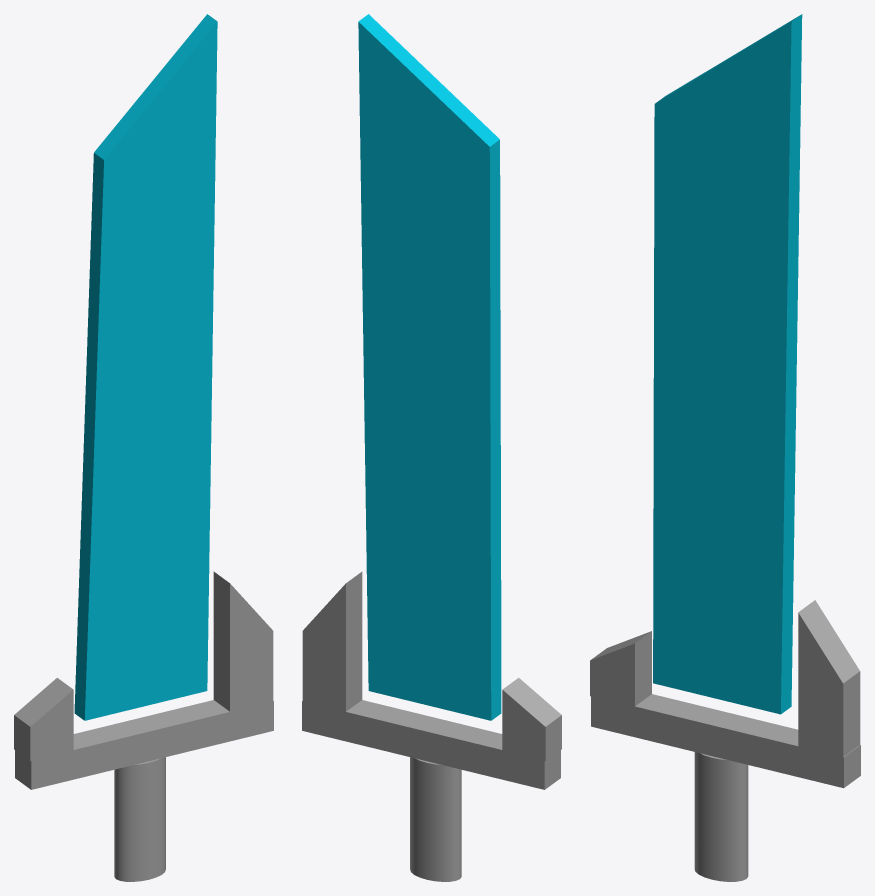
The model's file is SK_ProxySword_01.fbx.
The picture shows the model from 3 angles, left to right: view 1: azimuth 30°, elevation 25°; view 2: azimuth 150°, elevation 25°; view 3: azimuth 330°, elevation 25°; orthographic projection. The views are drawn at different scales.
Parts seen in each view (by area): view 1: pCube1, pCube2, pCube3, pCylinder1, pCube4; view 2: pCube1, pCube2, pCube3, pCylinder1, pCube4; view 3: pCube1, pCube2, pCube3, pCylinder1, pCube4.
Part boxes in pixels (x1=…): pCube1: x1=74, y1=14, x2=217, y2=720; pCube2: x1=15, y1=700, x2=273, y2=789; pCube3: x1=213, y1=571, x2=273, y2=714; pCylinder1: x1=114, y1=757, x2=165, y2=881; pCube4: x1=14, y1=677, x2=73, y2=761; pCube1: x1=358, y1=14, x2=501, y2=720; pCube2: x1=302, y1=700, x2=560, y2=789; pCube3: x1=302, y1=571, x2=362, y2=714; pCylinder1: x1=410, y1=757, x2=461, y2=881; pCube4: x1=502, y1=677, x2=561, y2=761; pCube1: x1=653, y1=14, x2=802, y2=714; pCube2: x1=591, y1=694, x2=860, y2=788; pCube3: x1=798, y1=600, x2=860, y2=760; pCylinder1: x1=694, y1=752, x2=748, y2=881; pCube4: x1=590, y1=631, x2=651, y2=706.
Bounding box in the file's own units: 27.34 × 89.89 × 4.49.
